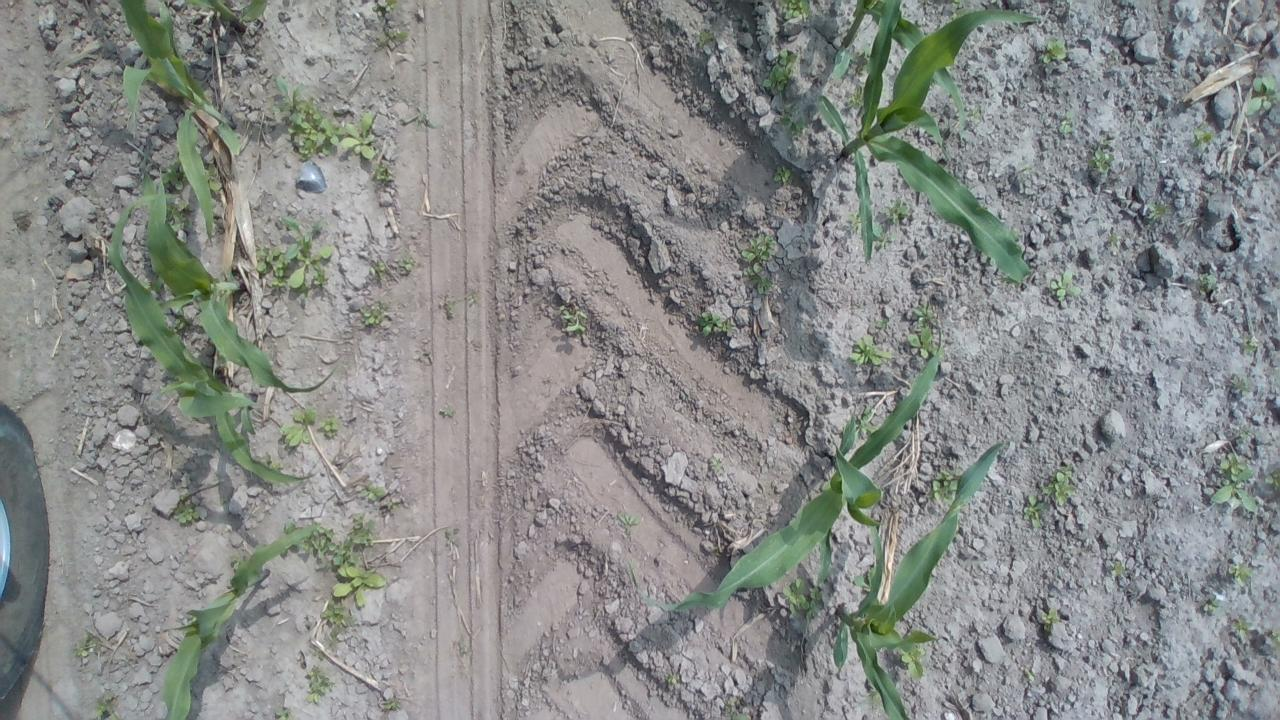Maize: (626, 313, 944, 614), (821, 0, 1041, 285), (108, 192, 316, 484), (832, 441, 1007, 720), (144, 165, 338, 393), (162, 521, 322, 720), (114, 0, 242, 245), (834, 0, 968, 142), (185, 0, 268, 29)
Weeds: (270, 74, 348, 160), (280, 213, 332, 290), (302, 514, 379, 564), (1210, 452, 1260, 518), (329, 562, 387, 610), (736, 233, 778, 294), (909, 298, 946, 358), (319, 600, 359, 651), (340, 107, 376, 161), (780, 576, 821, 622), (848, 332, 897, 368), (760, 48, 800, 92), (278, 408, 318, 450), (1042, 460, 1077, 507), (1244, 73, 1280, 117), (254, 244, 286, 286), (305, 664, 335, 706), (924, 468, 956, 506), (397, 102, 438, 131), (168, 491, 204, 524), (694, 309, 736, 337), (1048, 268, 1082, 302), (559, 300, 591, 334), (374, 26, 412, 54), (899, 647, 929, 681), (168, 200, 197, 232), (360, 299, 392, 328), (70, 632, 100, 660), (776, 0, 814, 22), (880, 197, 912, 223), (856, 403, 880, 437), (1228, 562, 1256, 590), (1023, 492, 1044, 527), (92, 688, 118, 716), (852, 36, 871, 74), (1044, 34, 1066, 66), (317, 414, 343, 440), (1086, 148, 1114, 172), (724, 696, 752, 720), (873, 222, 898, 248), (1194, 118, 1214, 150), (1233, 616, 1256, 642), (163, 162, 184, 190), (1144, 202, 1172, 222), (853, 567, 875, 592), (359, 481, 386, 501), (1196, 269, 1218, 293), (1042, 605, 1061, 632), (208, 160, 223, 192), (396, 250, 416, 274), (372, 0, 398, 18), (412, 346, 436, 365), (1058, 110, 1074, 138), (1238, 424, 1259, 445), (618, 512, 642, 530), (772, 164, 794, 183), (1264, 466, 1280, 492), (1017, 160, 1037, 180), (444, 526, 462, 548), (369, 258, 387, 280), (848, 84, 864, 108), (1243, 333, 1260, 355), (1204, 592, 1222, 612), (698, 27, 716, 47), (790, 116, 806, 138), (1233, 374, 1252, 392), (849, 208, 861, 236), (273, 706, 296, 720), (781, 103, 795, 124), (444, 296, 457, 318), (1268, 624, 1280, 646), (312, 648, 328, 664), (1107, 232, 1121, 250), (1111, 560, 1125, 578), (457, 636, 469, 656), (710, 454, 723, 471), (382, 699, 402, 710), (466, 290, 479, 306), (664, 672, 680, 684), (376, 166, 389, 180), (1024, 668, 1036, 683), (439, 406, 456, 416), (1099, 134, 1112, 146), (875, 318, 890, 328), (969, 109, 980, 122), (384, 500, 397, 511), (1110, 54, 1120, 68), (260, 452, 272, 463), (272, 464, 285, 470), (952, 0, 962, 6)
